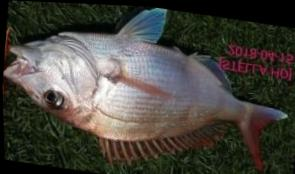fish: (2, 7, 285, 167)
